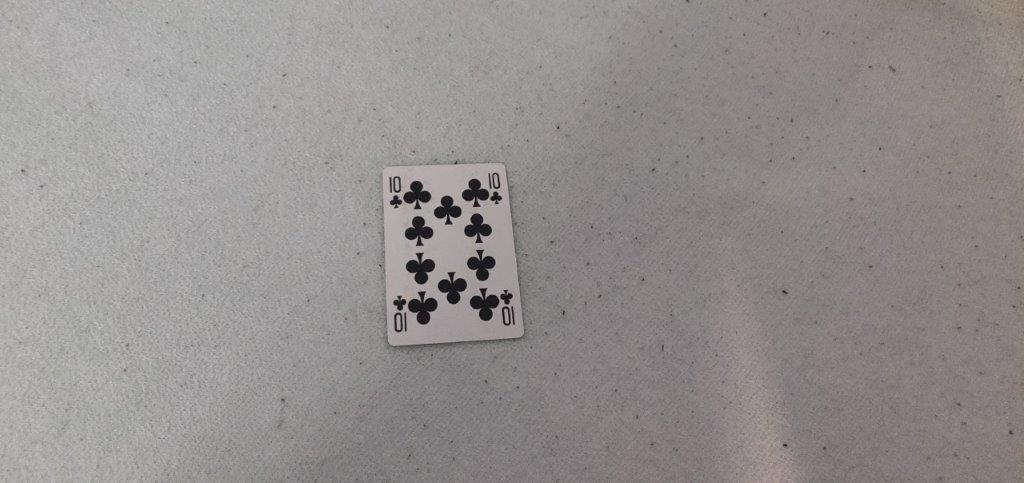10C: (484, 168, 504, 208), (386, 172, 407, 210)
